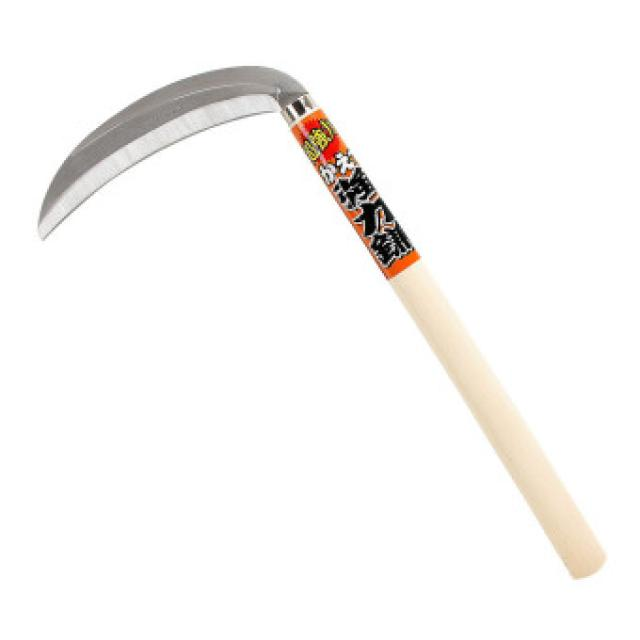sickle: (35, 35, 606, 572), (53, 31, 114, 35)
